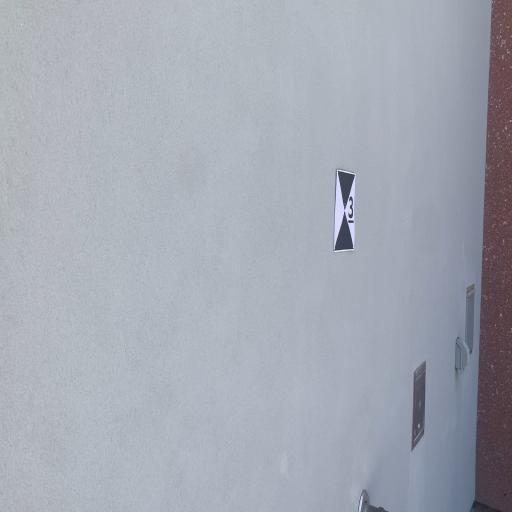target3: (334, 169, 357, 252)
